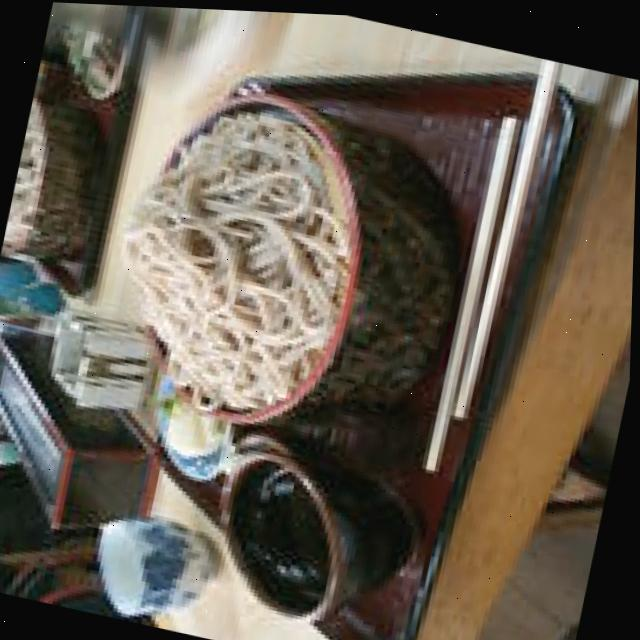面条主食: (70, 49, 492, 488)
